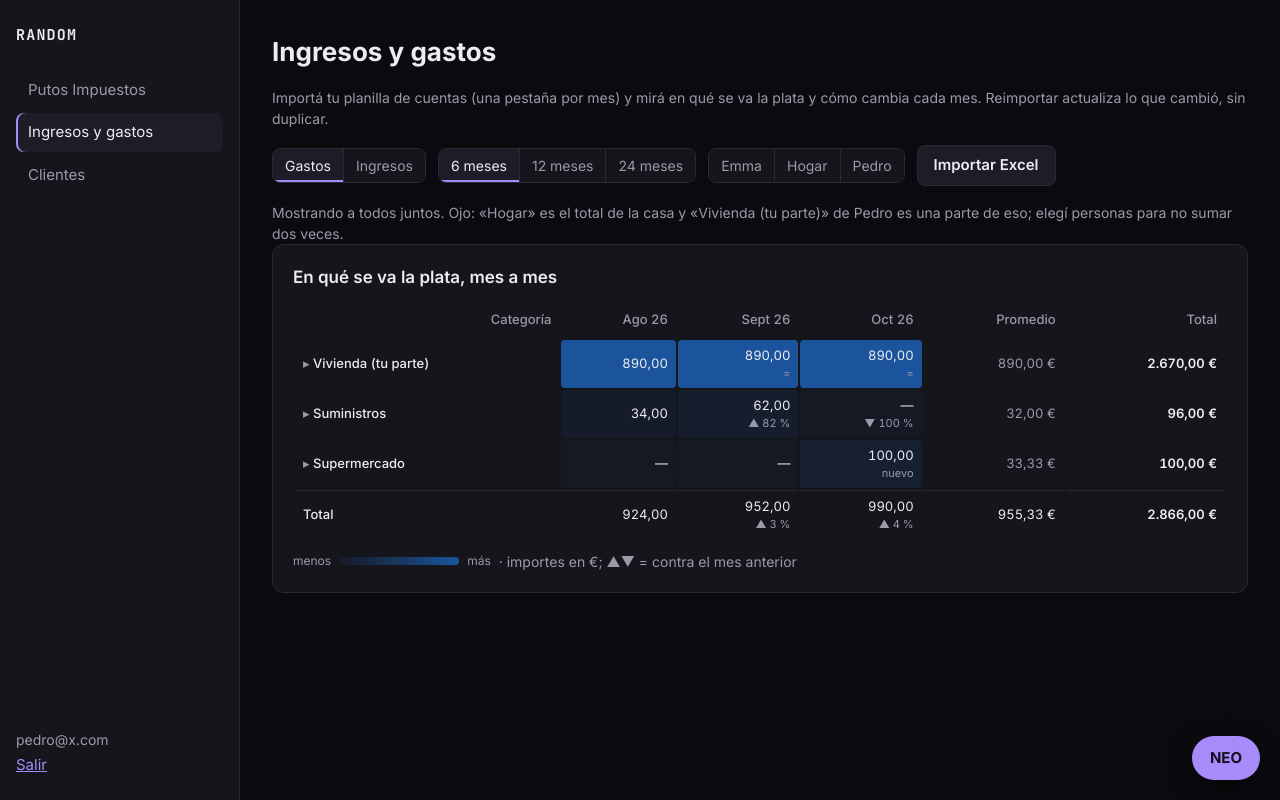
ingresos y gastos › filtra por tipo, período y persona
Check: the table is shown, box [293,302,1227,540]
Step 1. Click the button "12 meses" → coordinates (562, 165), box [519,149,605,182]
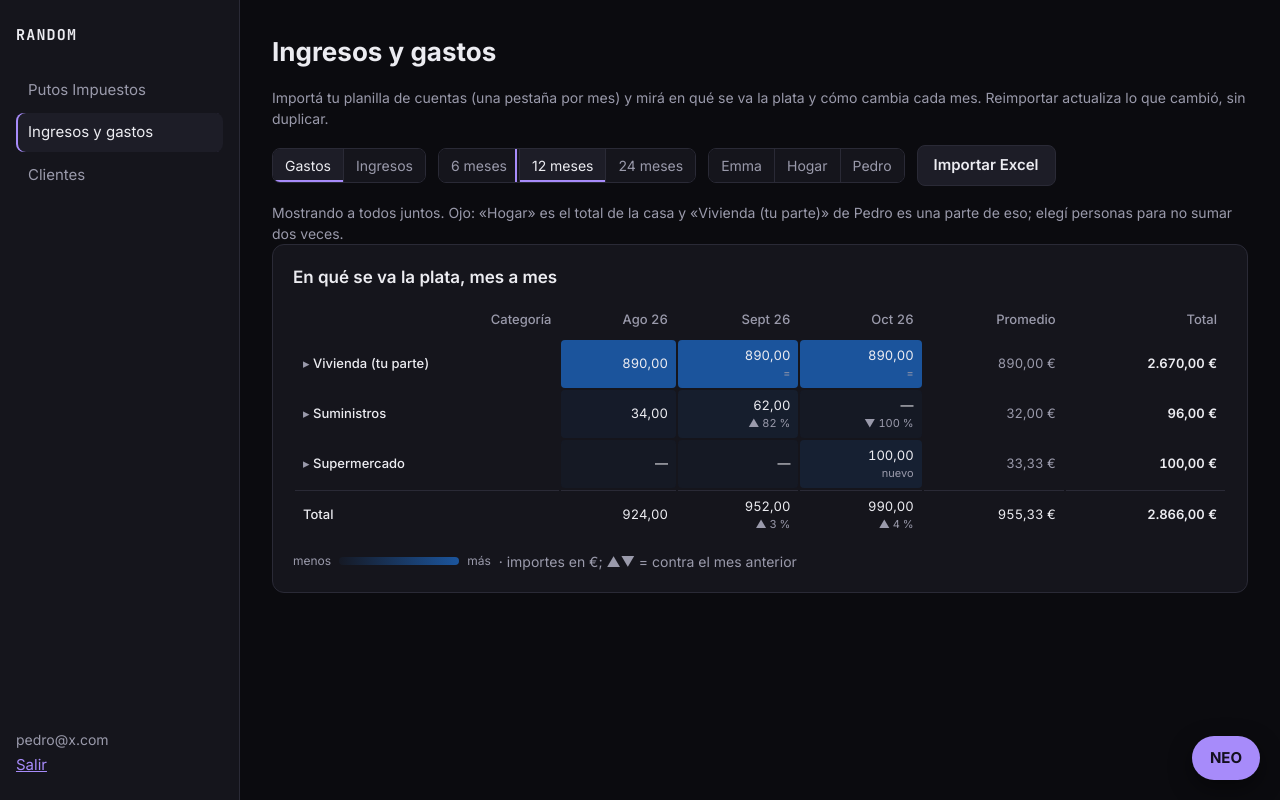
Step 2. Click the button "Pedro" → coordinates (872, 165), box [840,149,904,182]
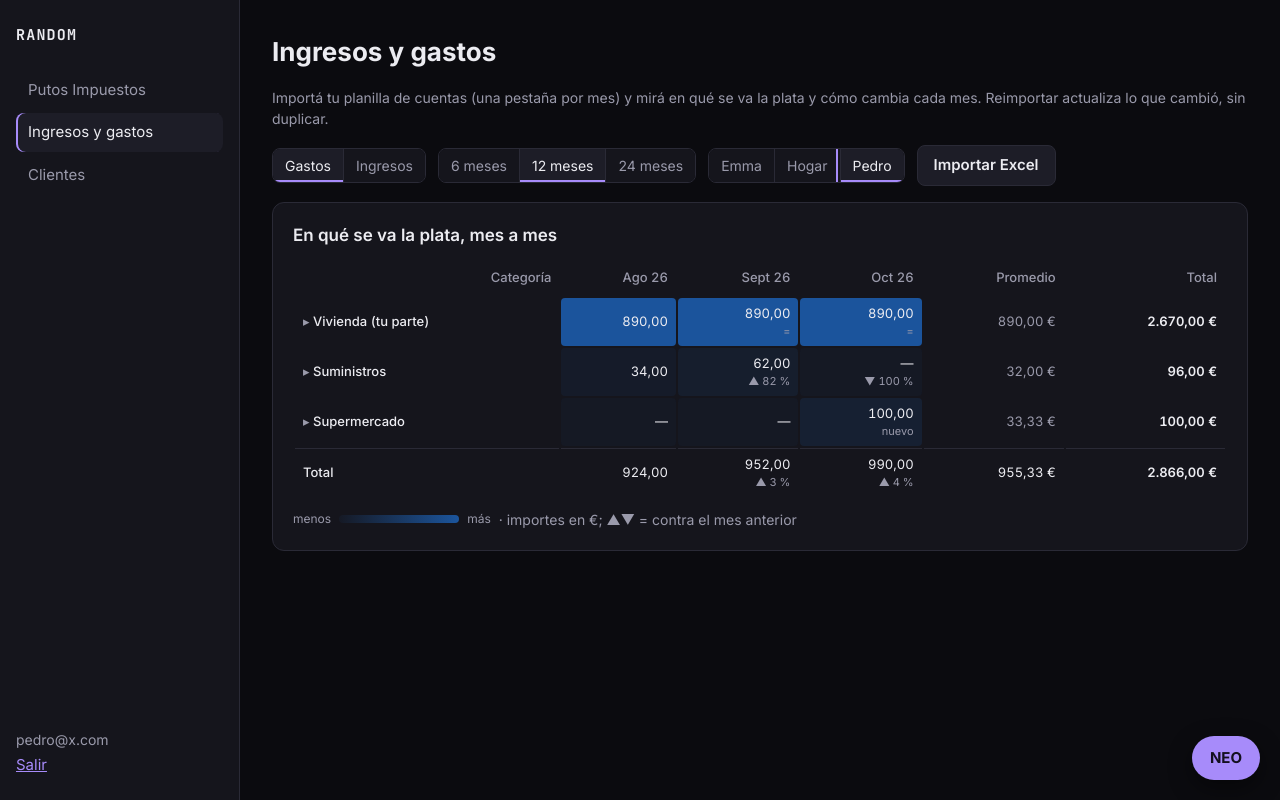
Check: the table is shown, box [293,260,1227,498]
Check: the text "Mostrando a todos juntos" is gone
Step 3. Click the button "Emma" → coordinates (742, 165), box [709,149,774,182]
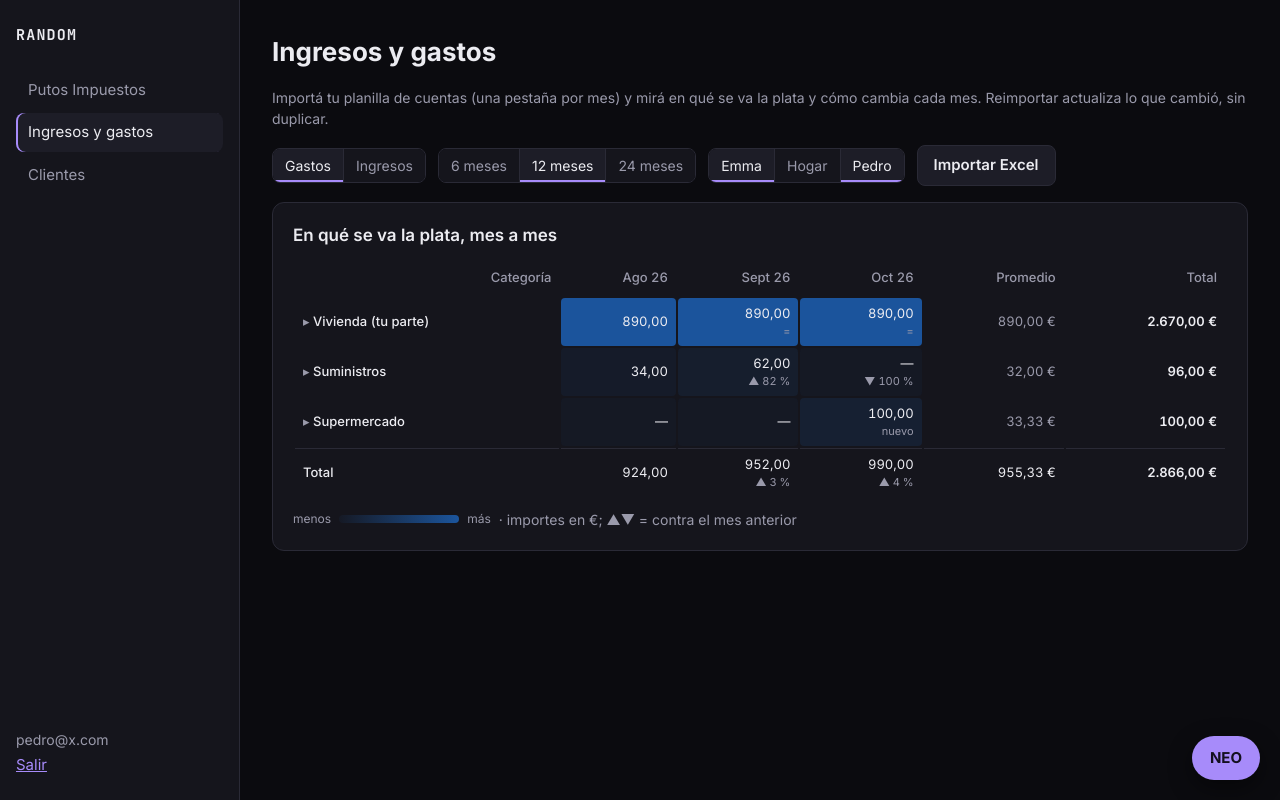
Check: the table is shown, box [293,260,1227,498]
Step 4. Click the button "Pedro" → coordinates (872, 165), box [840,149,904,182]
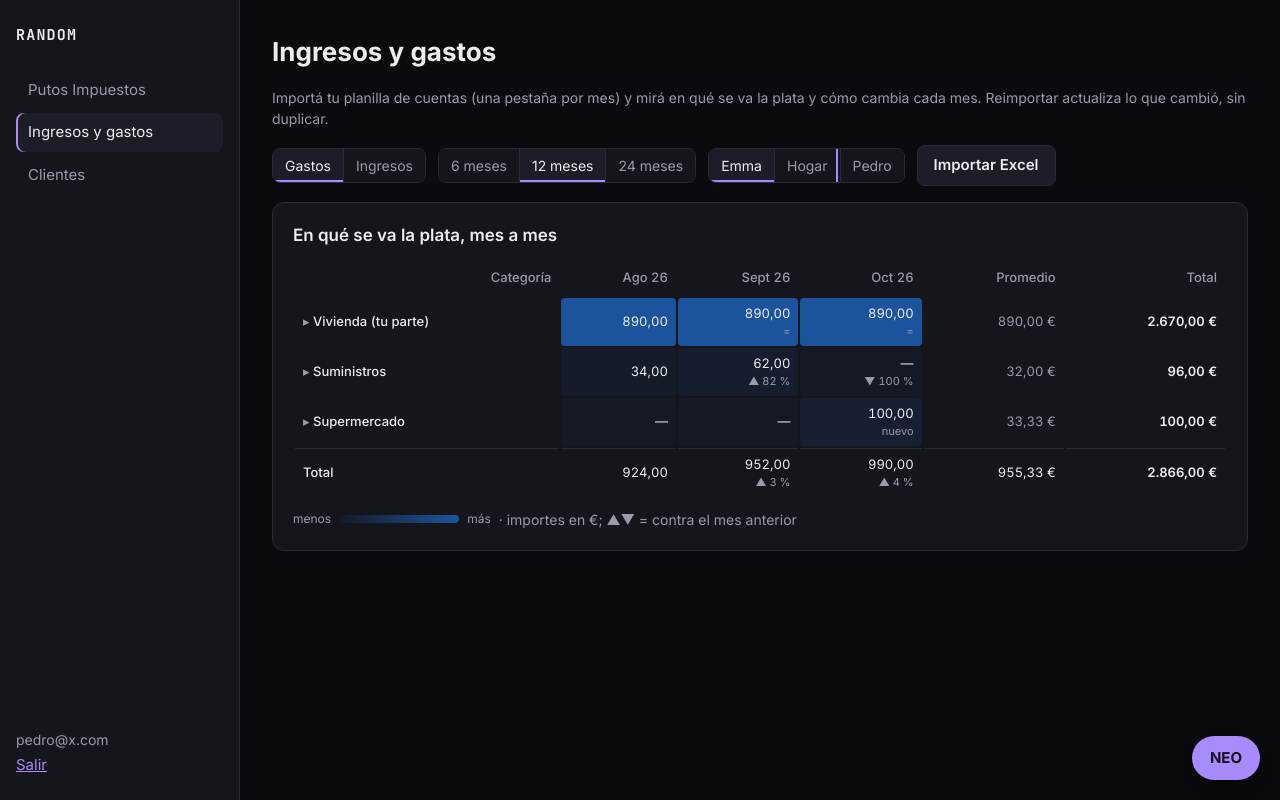
Check: the table is shown, box [293,260,1227,498]
Step 5. Click the button "Ingresos" → coordinates (384, 165), box [343,149,425,182]
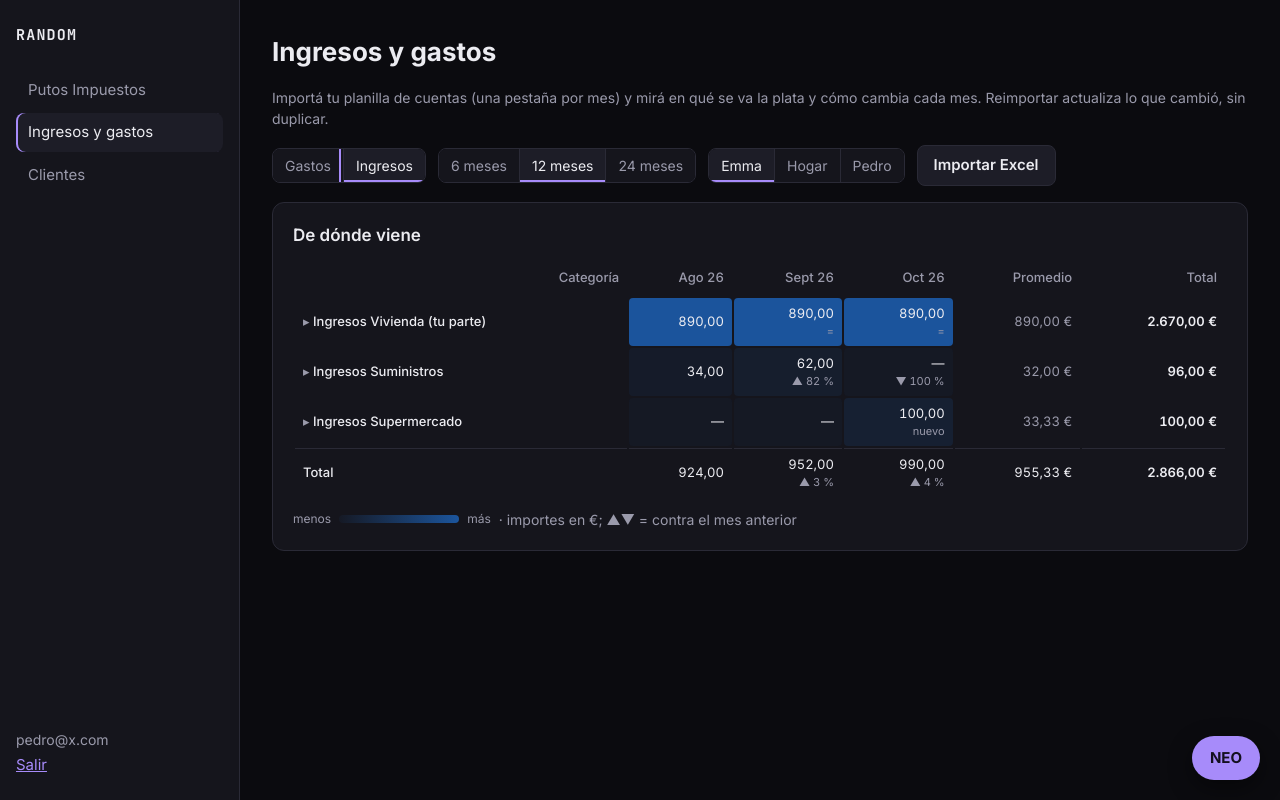
Check: the heading "De dónde viene" is shown, box [293,224,421,244]
